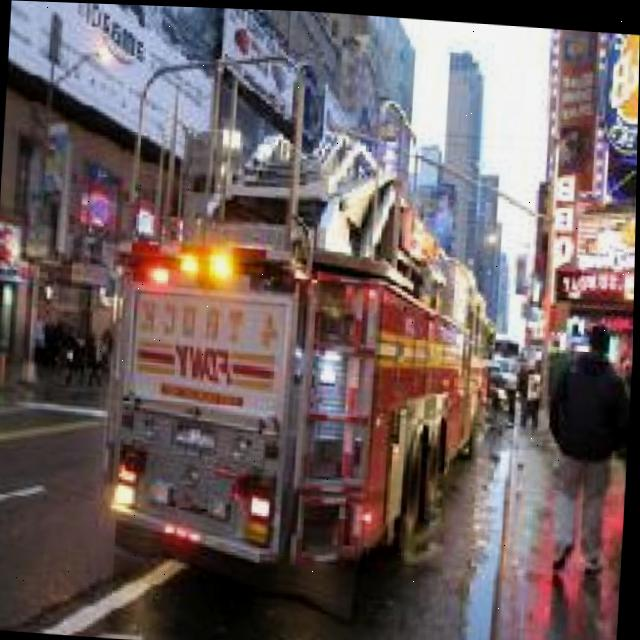emergency: (94, 32, 513, 615)
